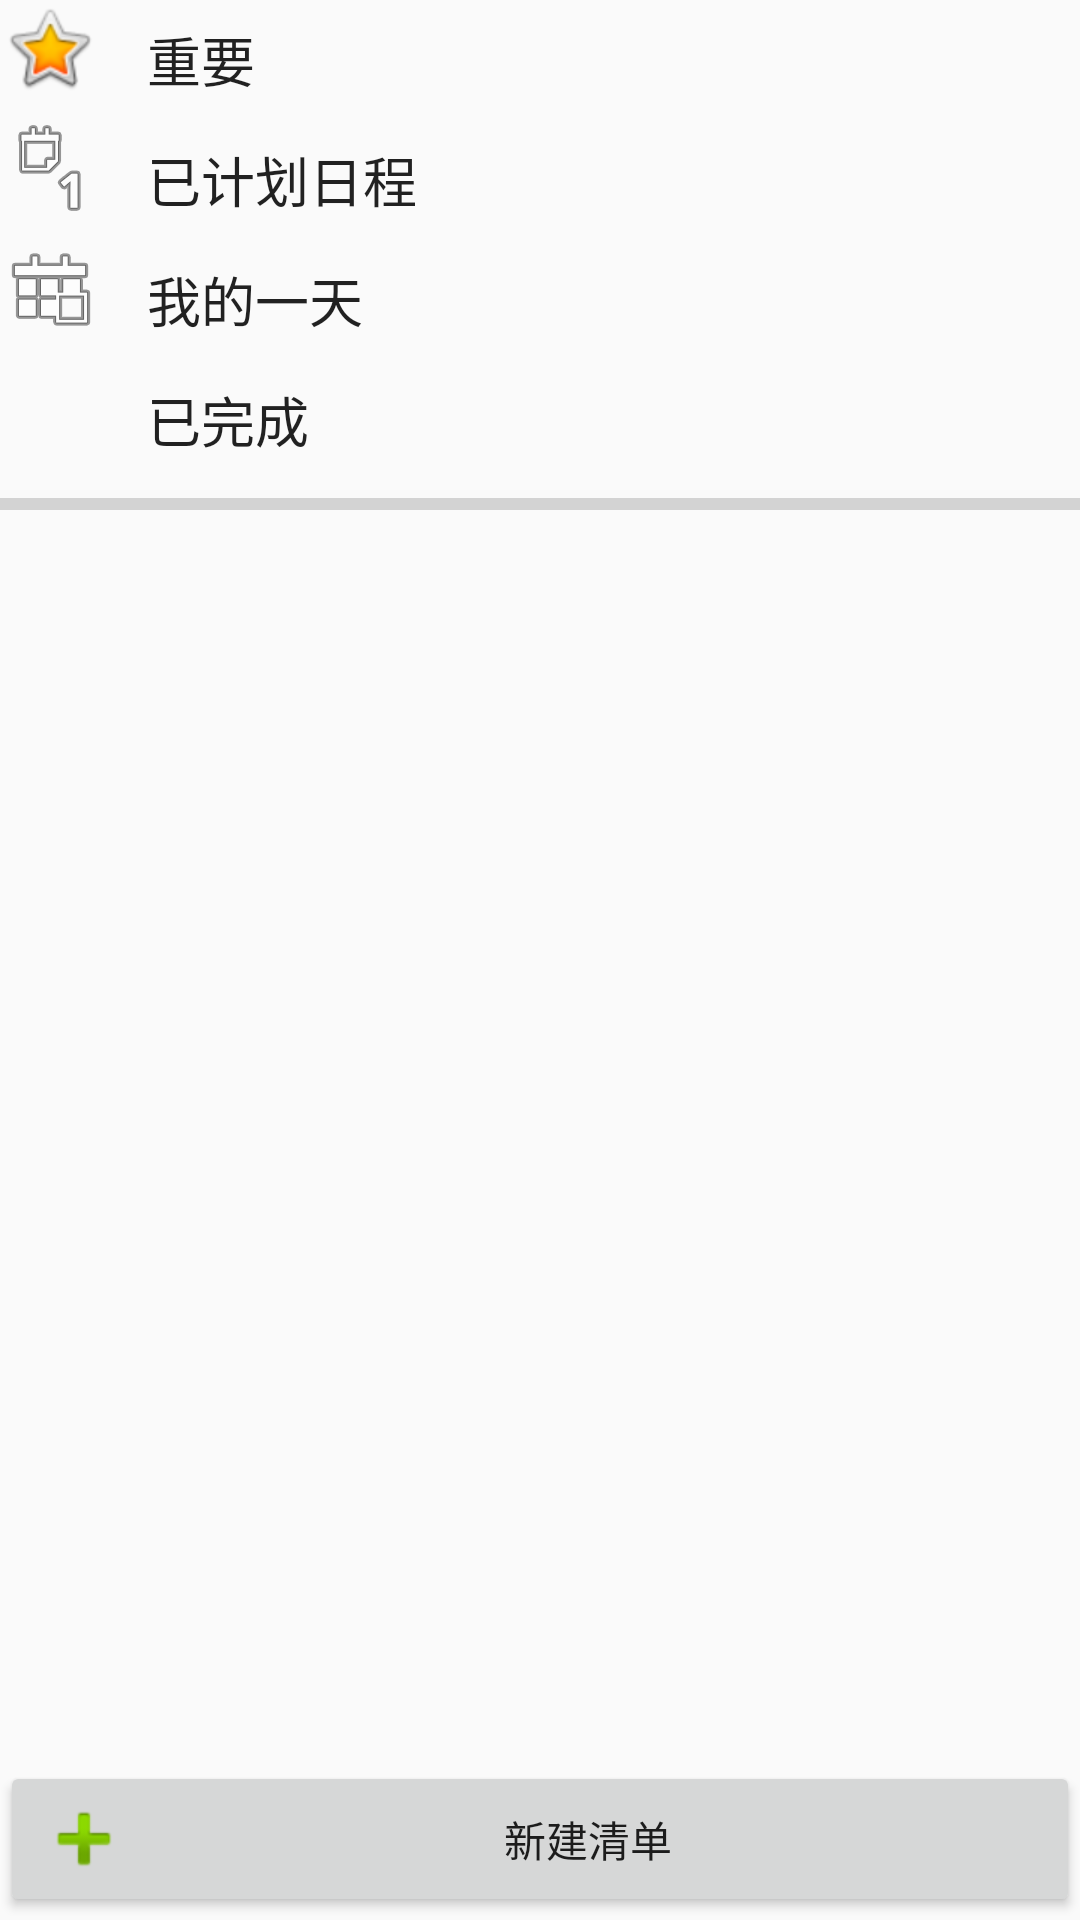

Named icons in this screenshot (1080*1920) and their bounding boxes, region(x1, y1, x2, y2):
star on: region(10, 10, 90, 88)
